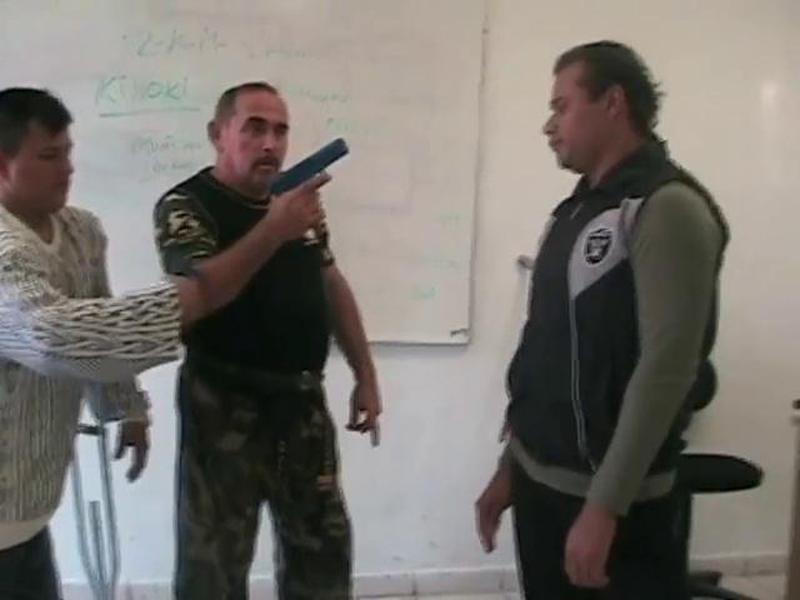Pistola: (255, 142, 377, 226)
